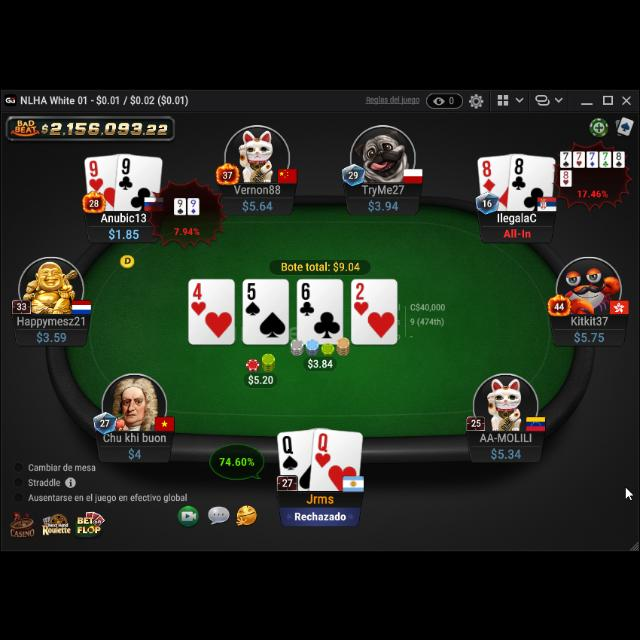2h: (352, 280, 370, 314)
4h: (190, 278, 208, 314)
5s: (244, 279, 262, 315)
6c: (298, 278, 316, 316)
8c: (510, 154, 528, 190)
8d: (480, 158, 498, 192)
9c: (117, 154, 135, 190)
9h: (88, 156, 104, 190)
Qh: (314, 429, 332, 467)
Qs: (280, 431, 300, 469)
all_in_symbol: (502, 225, 532, 238)
bet_text: (306, 353, 334, 367), (247, 371, 275, 384)
dealer: (118, 251, 136, 267)
pot_text: (279, 258, 363, 270)
stack_text: (292, 504, 348, 522), (573, 326, 607, 340), (108, 224, 140, 238), (35, 326, 67, 340), (367, 196, 399, 210), (242, 195, 274, 209), (491, 443, 522, 457), (128, 442, 142, 458)
